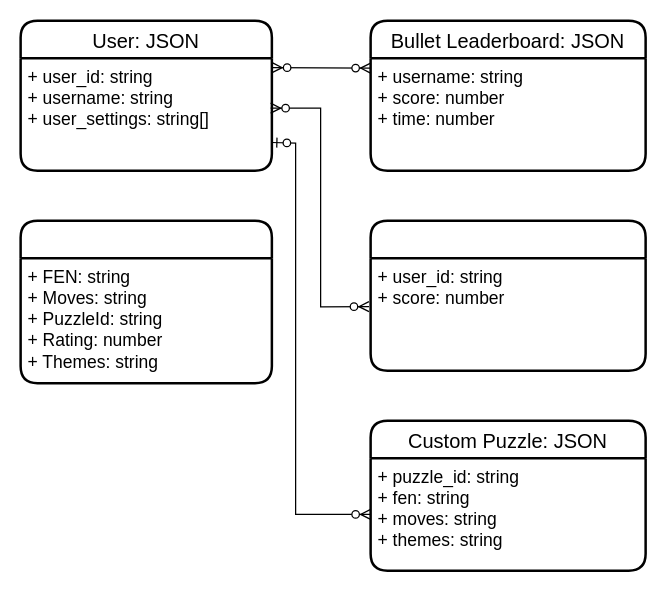
The diagram is 666 pixels wide and 591 high, and some of its shapes have lost their labels. Here are the shapes that lost their labels. From the top down, the box of each, then its label:
(19, 219, 272, 384): Checkmates: JSON
(369, 219, 646, 371): Classic Leaderboard: JSON
